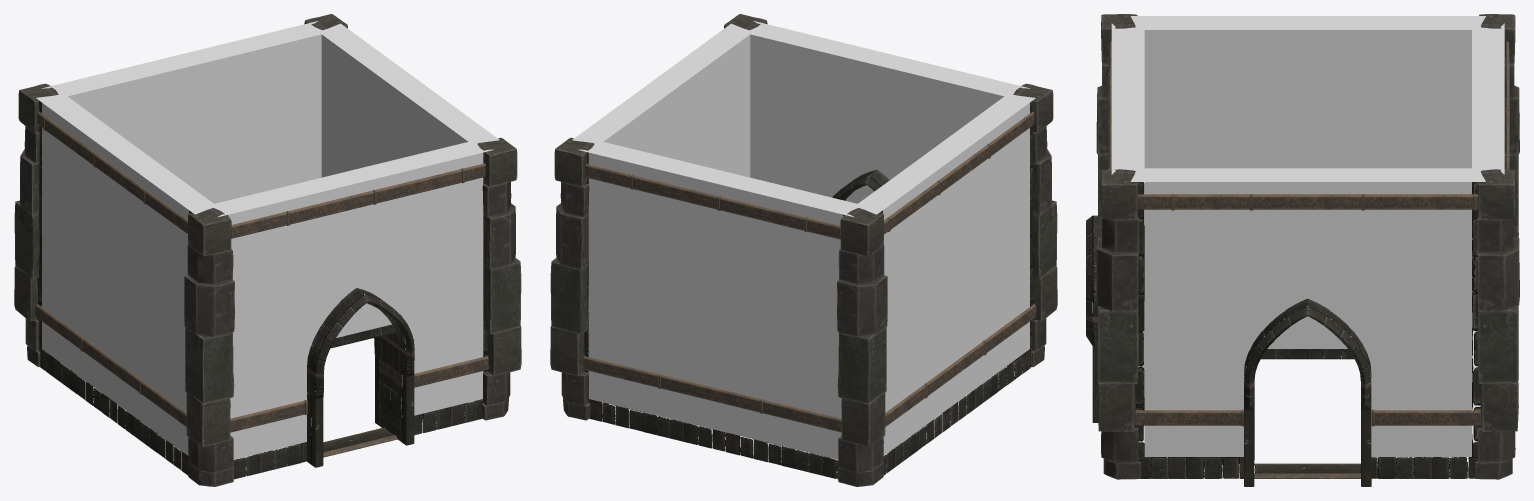
3 renders of one model, left to right at view 1: azimuth 30°, elevation 25°; view 2: azimuth 150°, elevation 25°; view 3: azimuth 270°, elevation 25°, orthographic. The views are drawn at different scales.
Visible parts, largest first — view 1: SM_Dowdun_Tower_Room_12x12_02_LOD0; view 2: SM_Dowdun_Tower_Room_12x12_02_LOD0; view 3: SM_Dowdun_Tower_Room_12x12_02_LOD0.
Part boxes in pixels (<box>): SM_Dowdun_Tower_Room_12x12_02_LOD0: <box>14,14,521,486</box>; SM_Dowdun_Tower_Room_12x12_02_LOD0: <box>550,14,1057,486</box>; SM_Dowdun_Tower_Room_12x12_02_LOD0: <box>1086,14,1519,486</box>.
Bounding box in the file's own units: 13.08 × 10.01 × 13.25.
Materials: 4 (3 with a texture image).
